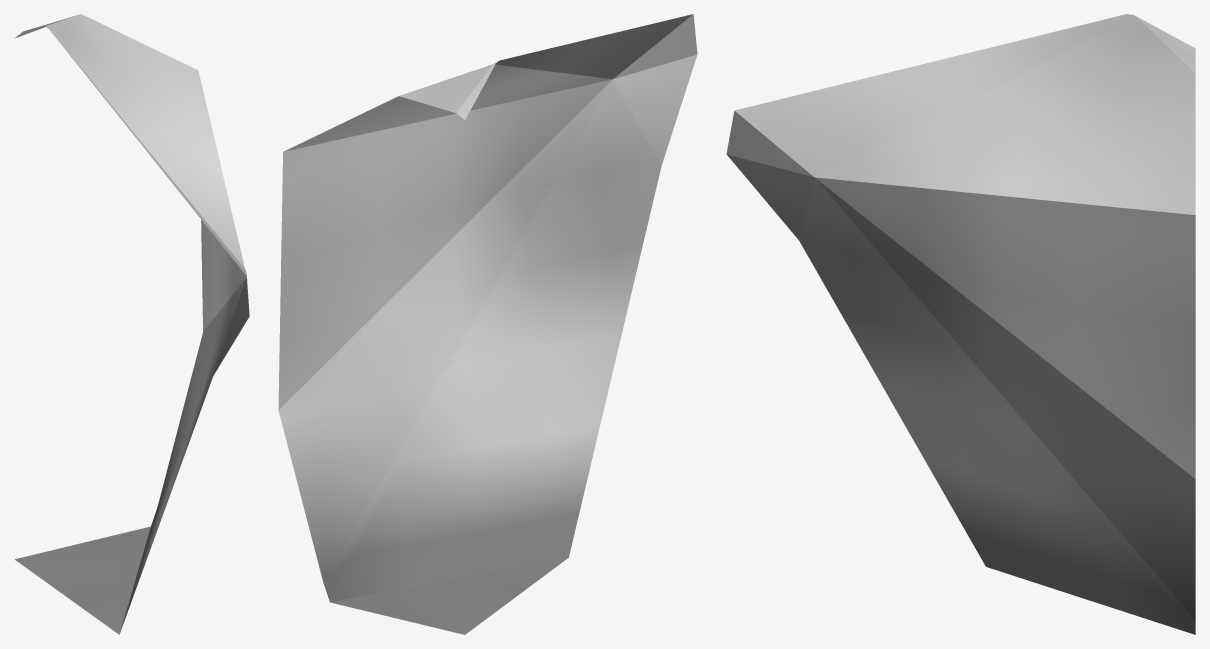
3 views of the same model, side by side, from view 1: azimuth 30°, elevation 25°; view 2: azimuth 150°, elevation 25°; view 3: azimuth 270°, elevation 25° (orthographic).
Bounding box in the file's own units: 0.0082 × 0.0231 × 0.0177.
Materials: 1 (1 with a texture image).
